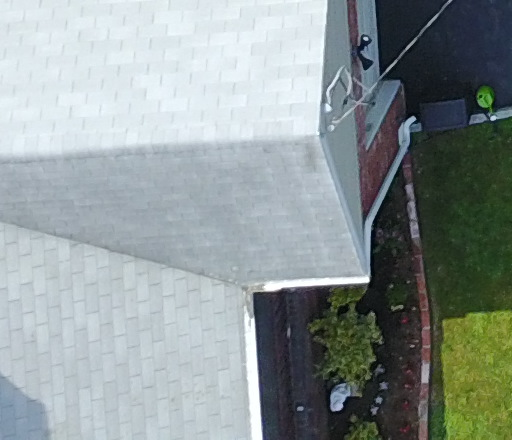waterin gcan: (466, 81, 501, 124)
